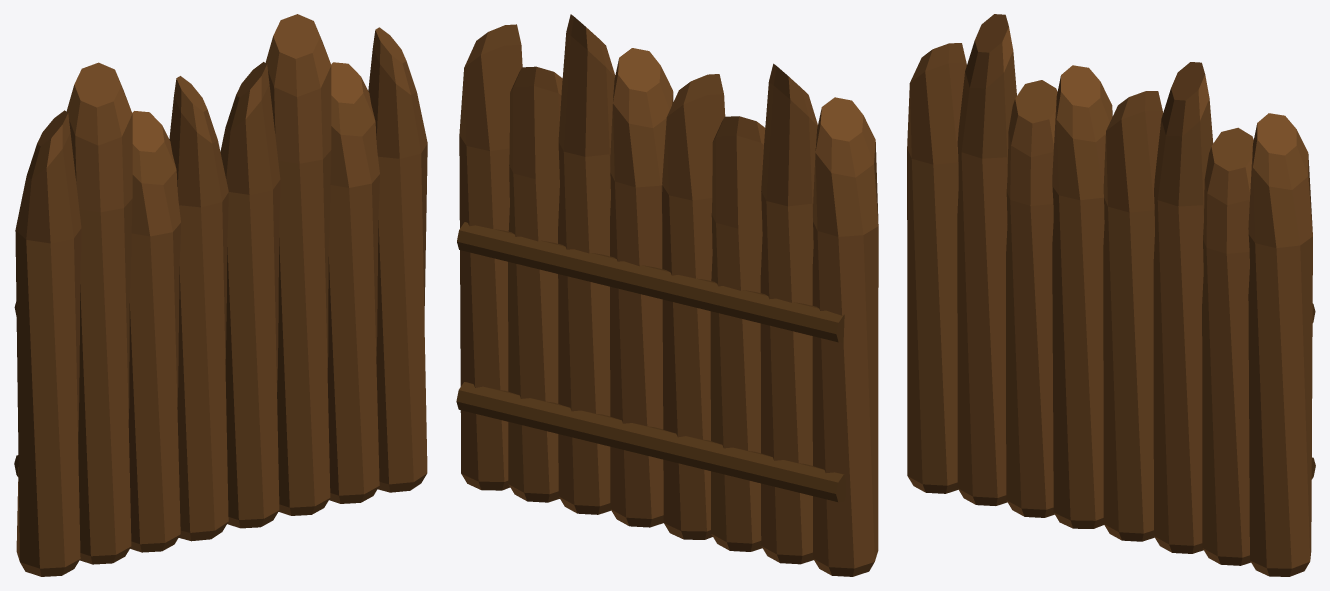
The model's file is E_B_FenceA.fbx.
3 views of the same model, side by side, from view 1: azimuth 30°, elevation 25°; view 2: azimuth 150°, elevation 25°; view 3: azimuth 330°, elevation 25° (orthographic). The views are drawn at different scales.
Visible parts, largest first — view 1: E_B_FenceA; view 2: E_B_FenceA; view 3: E_B_FenceA.
Part boxes in pixels (x1=…): E_B_FenceA: x1=14, y1=14, x2=427, y2=576; E_B_FenceA: x1=456, y1=14, x2=878, y2=576; E_B_FenceA: x1=907, y1=14, x2=1315, y2=576.
Size of the model in its own units: 384 by 439 by 63.27.
